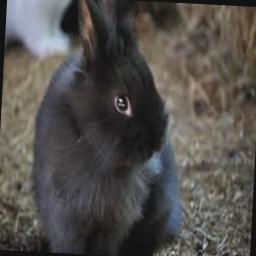rabbit: (31, 0, 180, 255)
